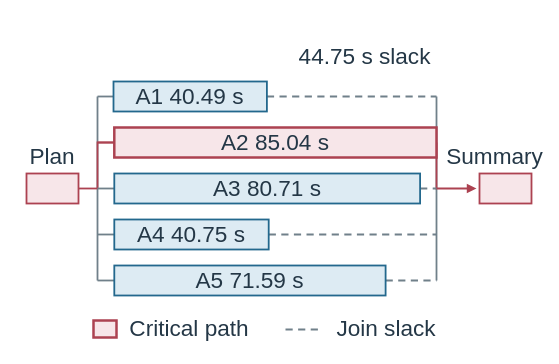
The diagram is 559 pixels wide and 364 high, and some of its shapes have lost their labels. The shapes that lost their labels are listed below. From the top down, each one's centre as x and y in pixels, then its label:
At point (52, 188): "A0".
At point (505, 188): "A6".
